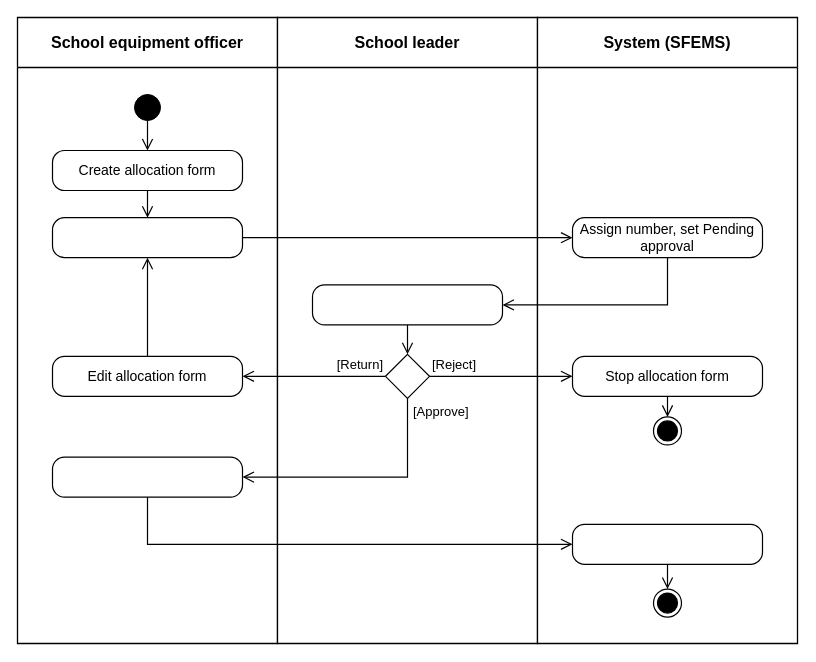
The diagram is 816 pixels wide and 662 high, and some of its shapes have lost their labels. Each missing label, with the centre of its shape:
Hand over equipment: the point at 147,476
Review allocation form: the point at 407,304
Submit allocation form: the point at 147,237
Update room, holder: the point at 667,543
